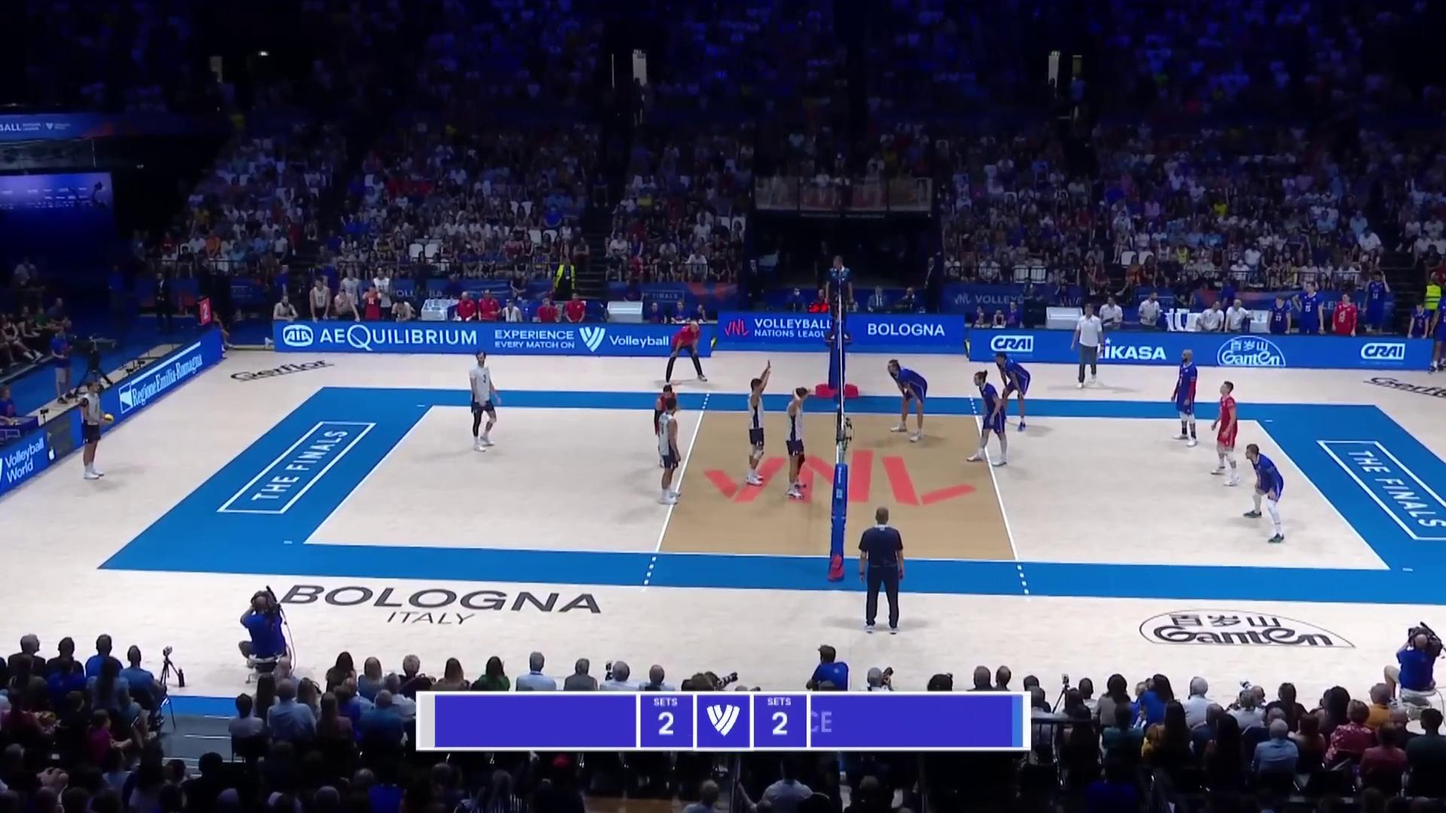player: (1245, 448, 1286, 543), (968, 372, 1007, 468), (886, 357, 930, 441), (745, 362, 771, 486), (785, 385, 813, 499), (79, 382, 111, 481), (471, 355, 500, 452), (998, 352, 1033, 429), (1210, 384, 1238, 480), (1172, 349, 1199, 446), (655, 404, 680, 505), (650, 384, 680, 459)
refree: (857, 511, 904, 633), (823, 258, 850, 342)
